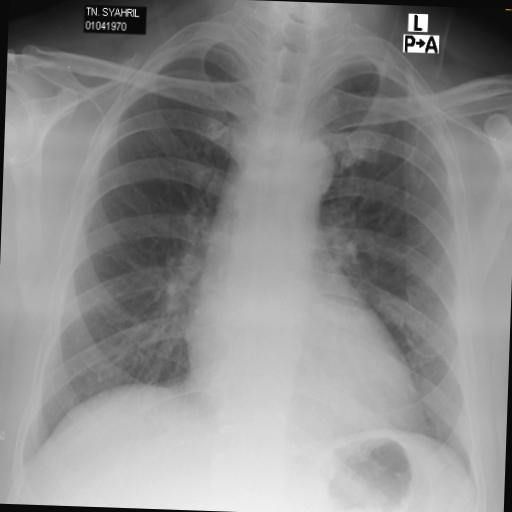kardiomegali: (16, 3, 501, 494)
